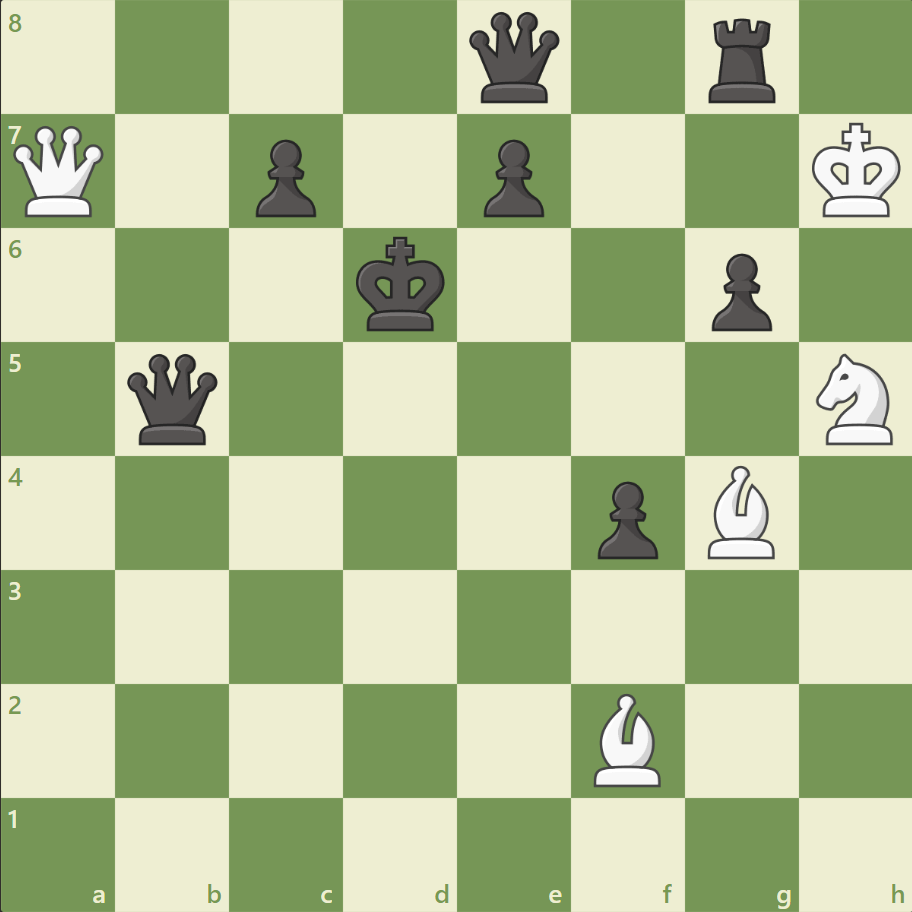B: (698, 460, 782, 563), (585, 687, 669, 790)
K: (806, 117, 906, 225)
N: (806, 348, 903, 450)
Q: (10, 122, 109, 222)
k: (351, 231, 451, 339)
p: (247, 132, 322, 223), (474, 132, 549, 223), (701, 246, 776, 337), (588, 473, 662, 564)
q: (124, 349, 223, 449), (464, 9, 563, 108)
r: (700, 12, 783, 109)
